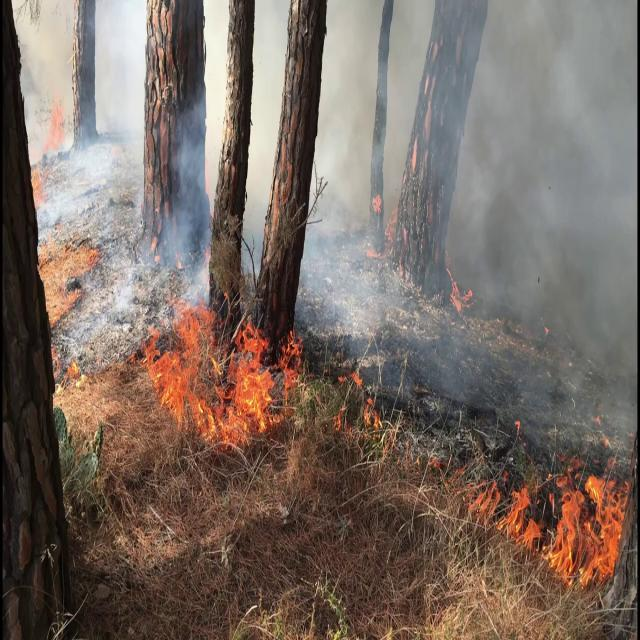Fire: (141, 290, 280, 446), (491, 464, 632, 584)
Smoke: (310, 0, 637, 421), (29, 0, 218, 317)
